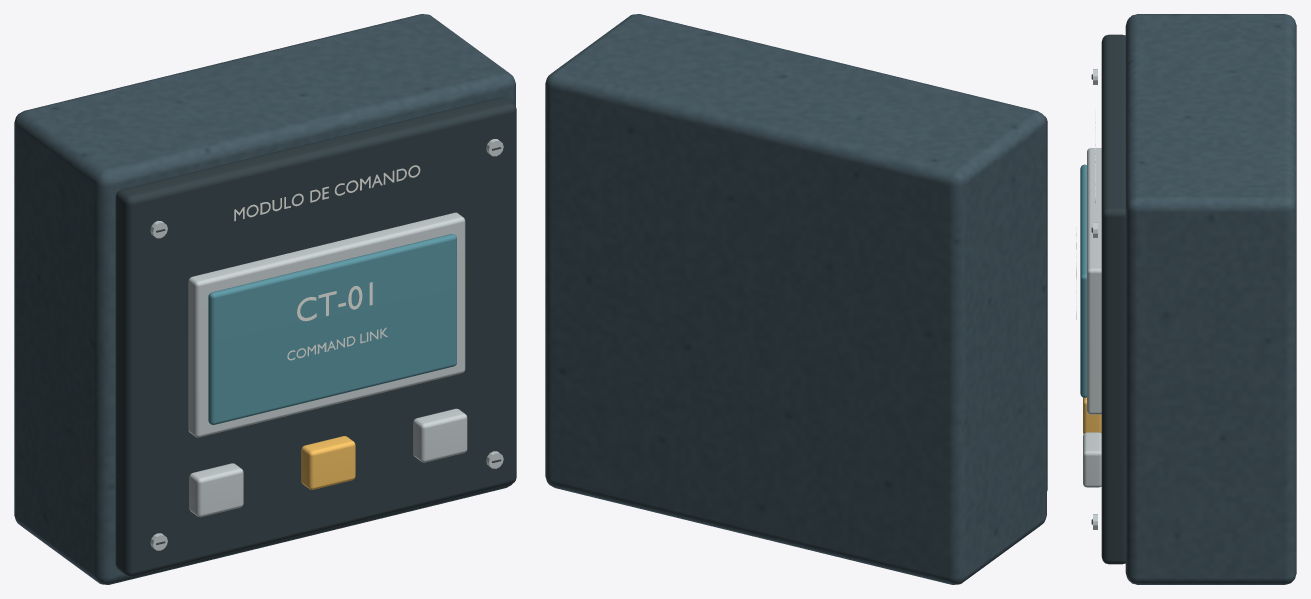
The picture shows the model from 3 angles, left to right: view 1: azimuth 30°, elevation 25°; view 2: azimuth 150°, elevation 25°; view 3: azimuth 270°, elevation 25°; orthographic projection. The views are drawn at different scales.
Parts seen in each view (by area): view 1: Controller face, Controller housing, Diagnostic screen, Diagnostic screen rim, Control button.002, Control button, Control button.001, MODULO DE COMANDO; view 2: Controller housing; view 3: Controller housing, Controller face, Diagnostic screen rim, Diagnostic screen, Control button.002, Control button.001.
Boxes of the visible parts, x1=… form: Controller face: x1=115, y1=97, x2=516, y2=576; Controller housing: x1=14, y1=14, x2=515, y2=584; Diagnostic screen: x1=208, y1=234, x2=456, y2=424; Diagnostic screen rim: x1=188, y1=212, x2=465, y2=437; Control button.002: x1=413, y1=408, x2=467, y2=462; Control button: x1=189, y1=463, x2=243, y2=517; Control button.001: x1=301, y1=436, x2=355, y2=489; MODULO DE COMANDO: x1=234, y1=165, x2=420, y2=221; Controller housing: x1=545, y1=14, x2=1046, y2=584; Controller housing: x1=1125, y1=14, x2=1296, y2=584; Controller face: x1=1101, y1=34, x2=1125, y2=564; Diagnostic screen rim: x1=1087, y1=148, x2=1101, y2=414; Diagnostic screen: x1=1080, y1=164, x2=1086, y2=397; Control button.002: x1=1083, y1=432, x2=1101, y2=487; Control button.001: x1=1083, y1=397, x2=1101, y2=433.
Bounding box in the file's own units: 90 × 85 × 43.83.
Materials: 6 (1 with a texture image).
